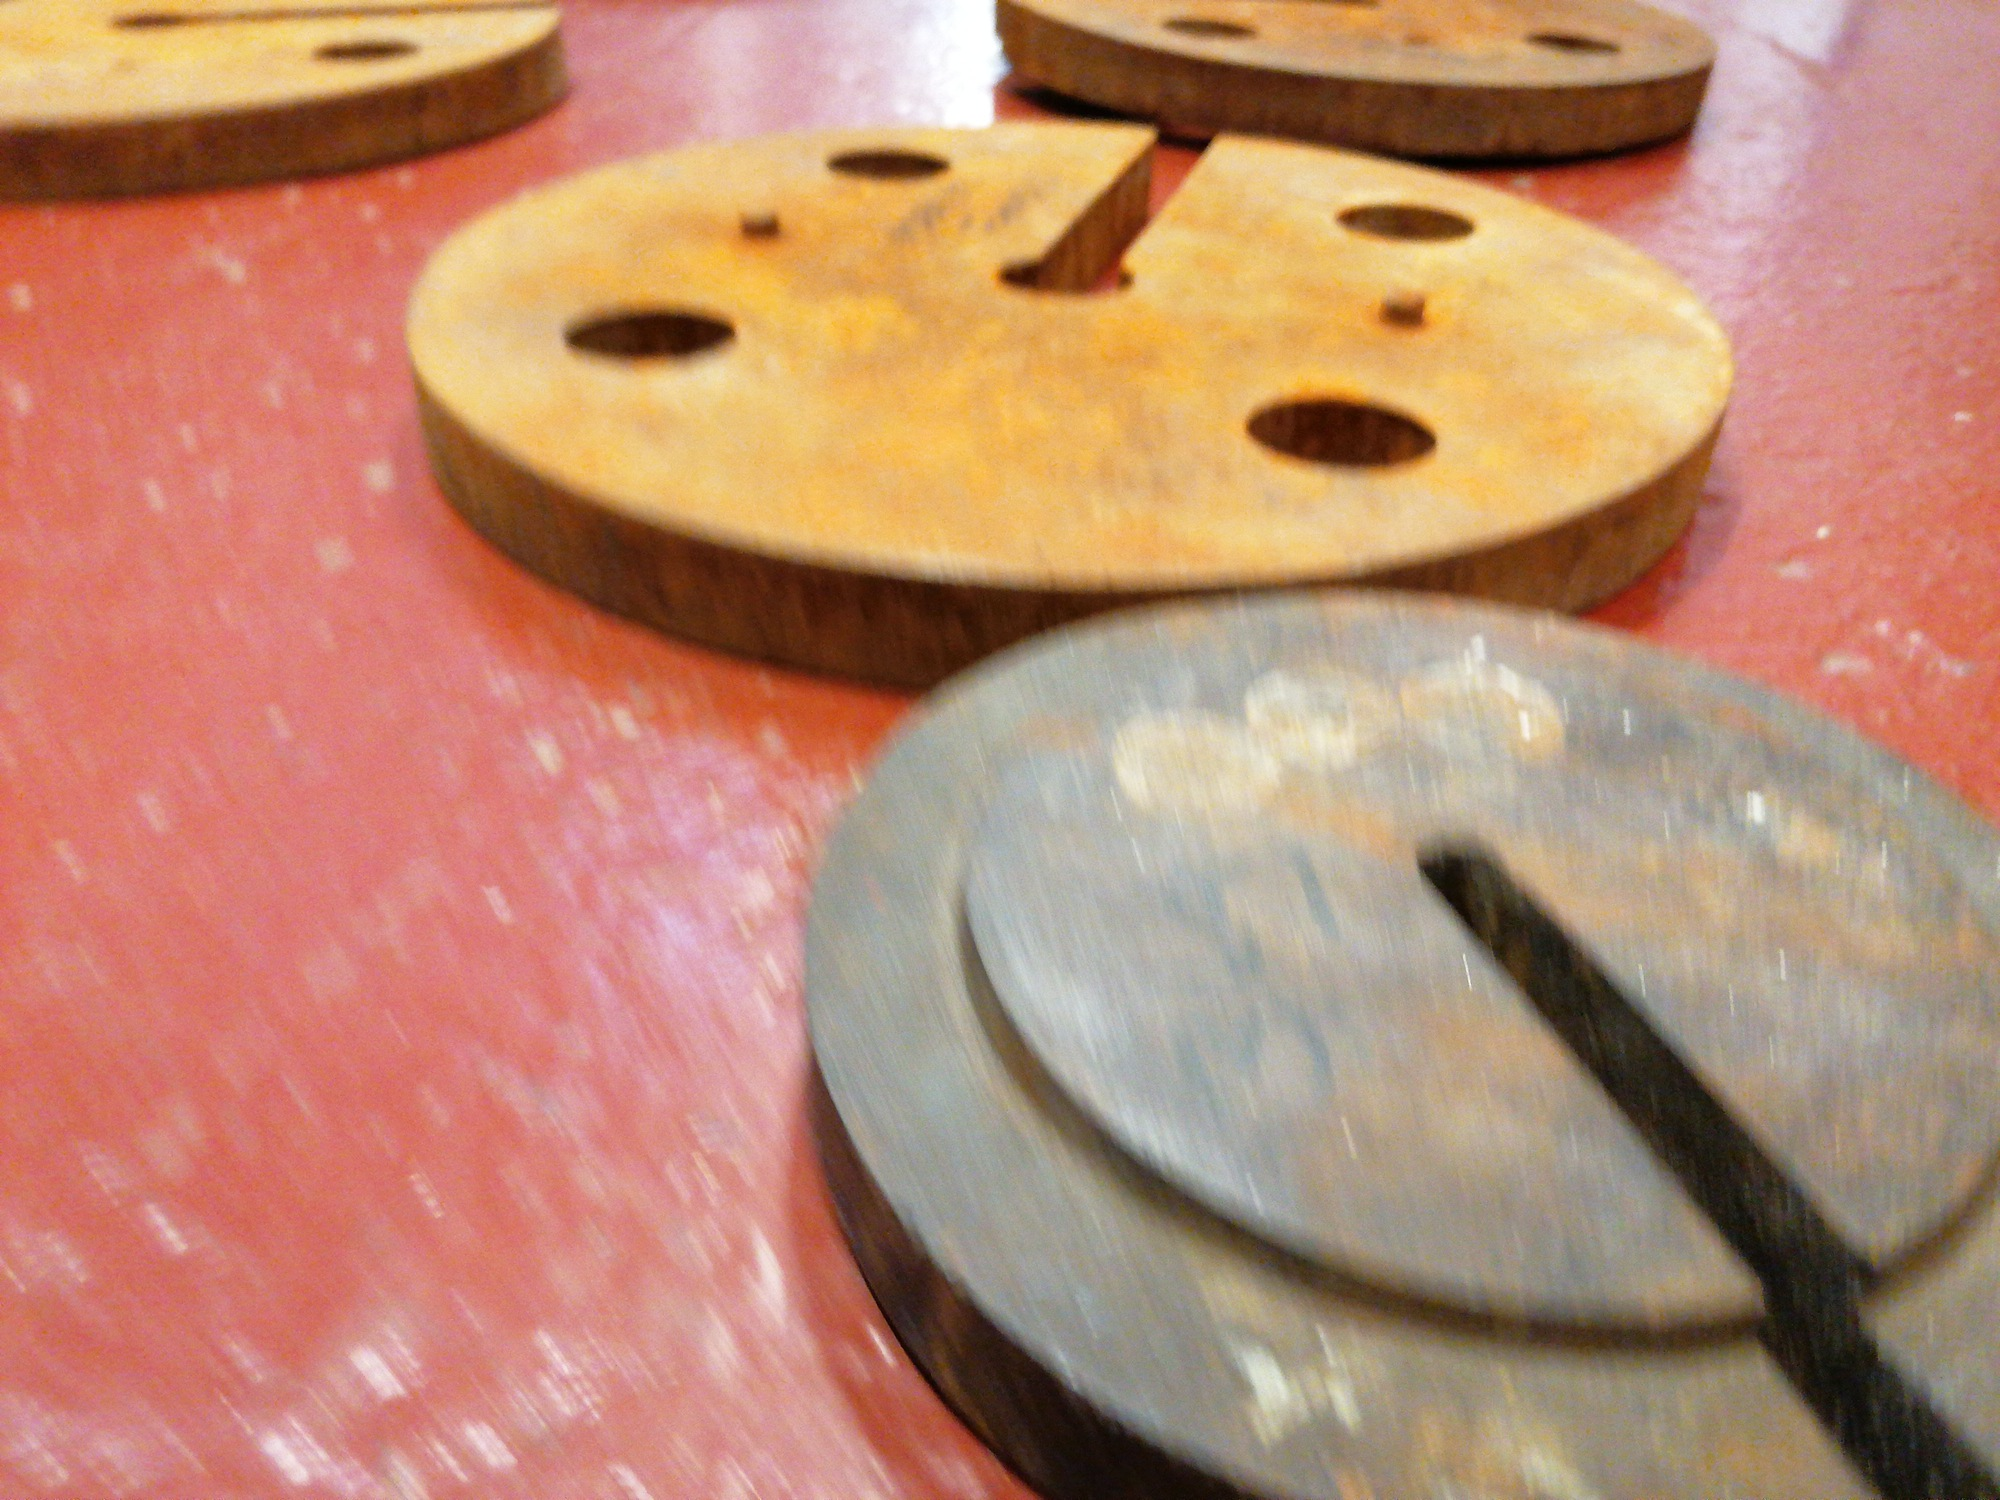flange: (802, 577, 1998, 1498), (402, 113, 1740, 695), (2, 2, 573, 206), (992, 2, 1720, 162)
